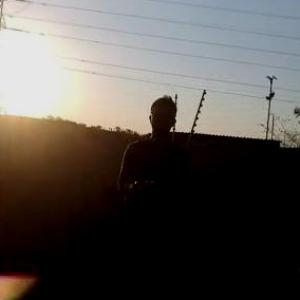follow: (115, 91, 193, 299)
